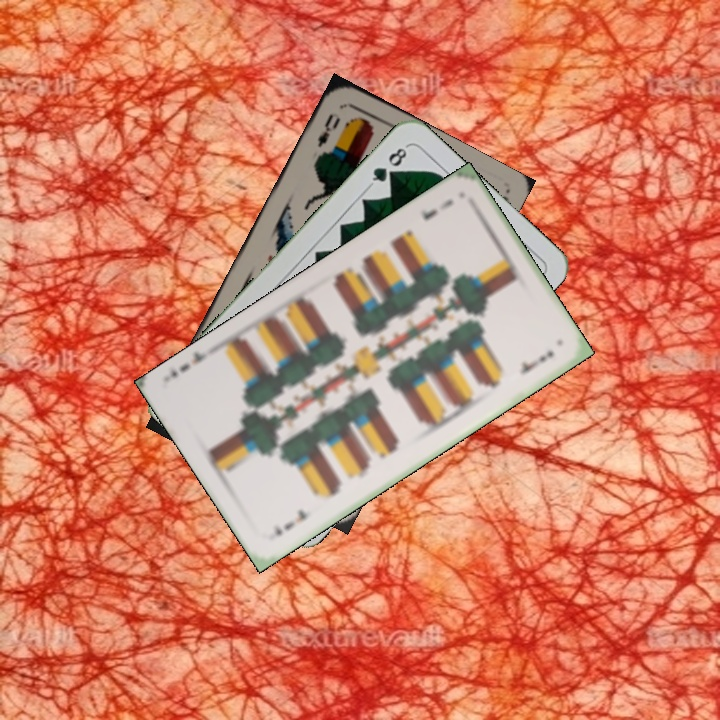E7: (269, 505, 315, 539), (417, 195, 456, 223)
EO: (313, 109, 343, 160)
G8: (366, 141, 412, 189)
